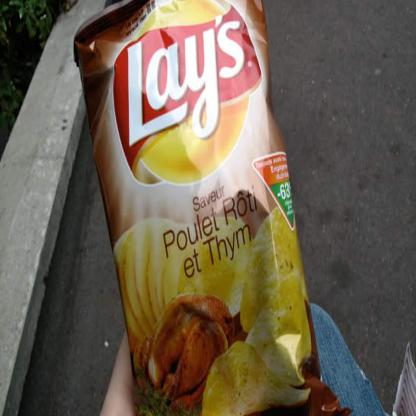potatochip: (67, 0, 356, 415)
